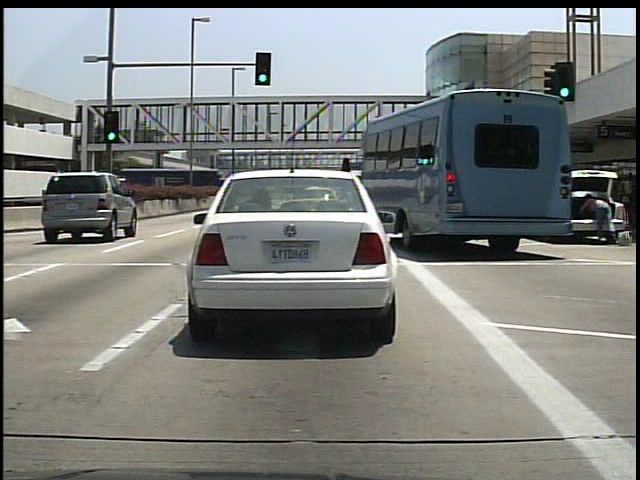person: (583, 186, 618, 250)
